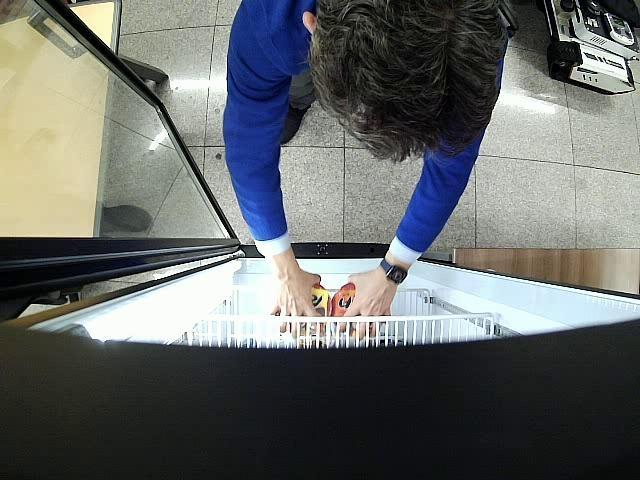05_nuguri_L: (276, 284, 332, 336), (332, 282, 372, 337)
